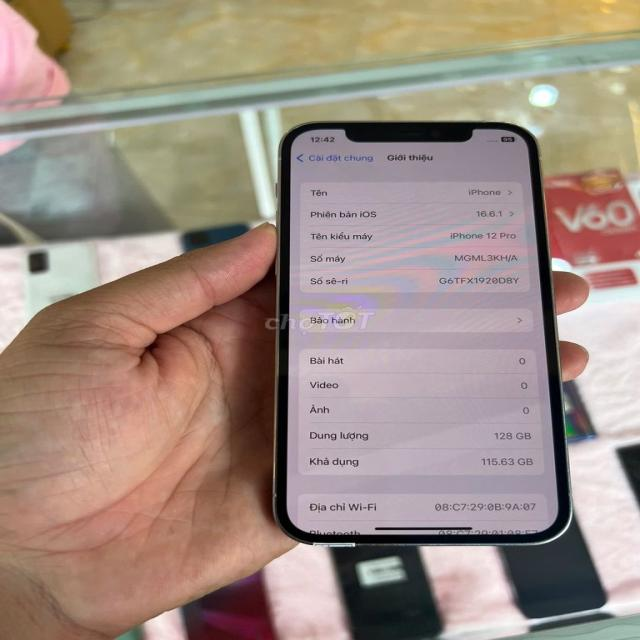gen_12_13: (274, 108, 582, 556)
